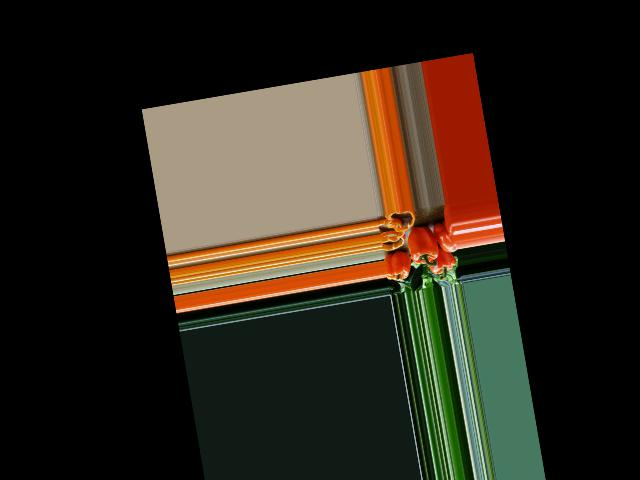bell_pepper: (432, 218, 457, 255)
